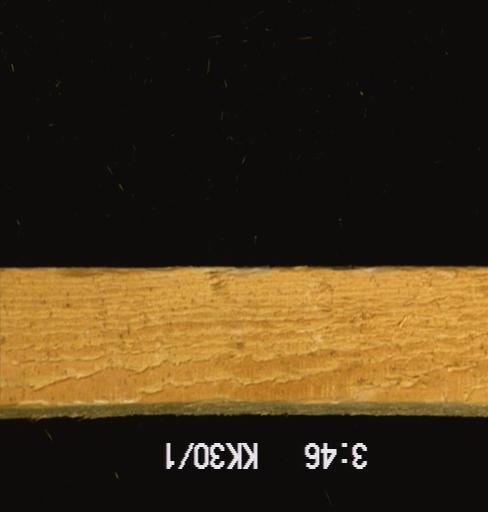wave: (53, 266, 184, 288)
